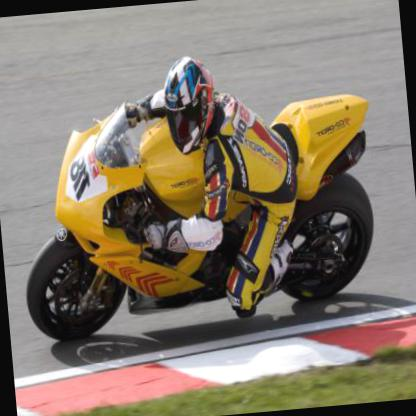motorcycle: (31, 71, 382, 345)
